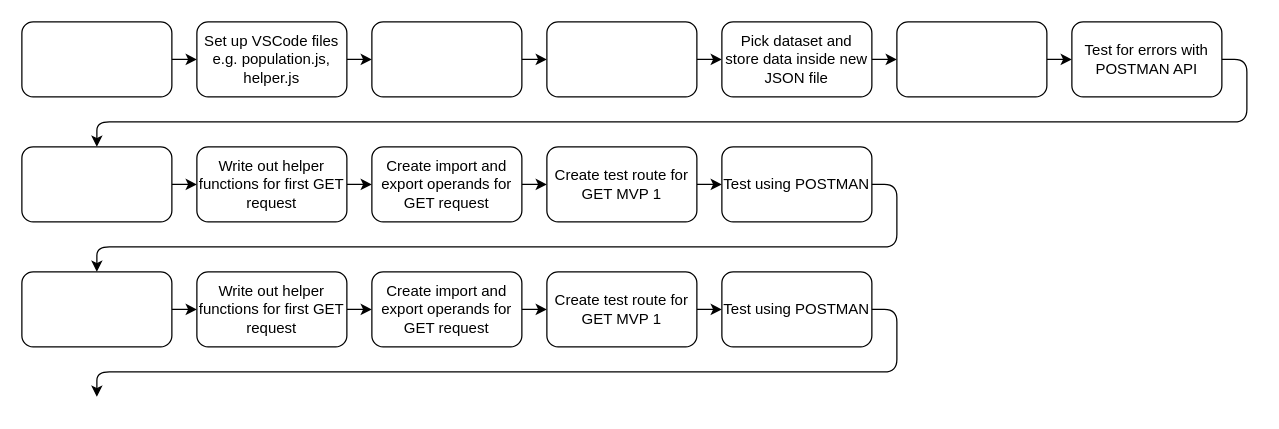
Image size: 1279x429. Some labels were removed from this diagram. The shapes that lost their labels are listed below. From the top down, each one's centre as x and y in pixels, then its label:
point (96, 59): Set up steps
point (446, 59): Initialise node + npm, e.g. check dependancies
point (621, 59): Install express and set up server dependancies
point (971, 59): Create requirements table
point (96, 184): MVP 1
point (96, 309): MVP 2
